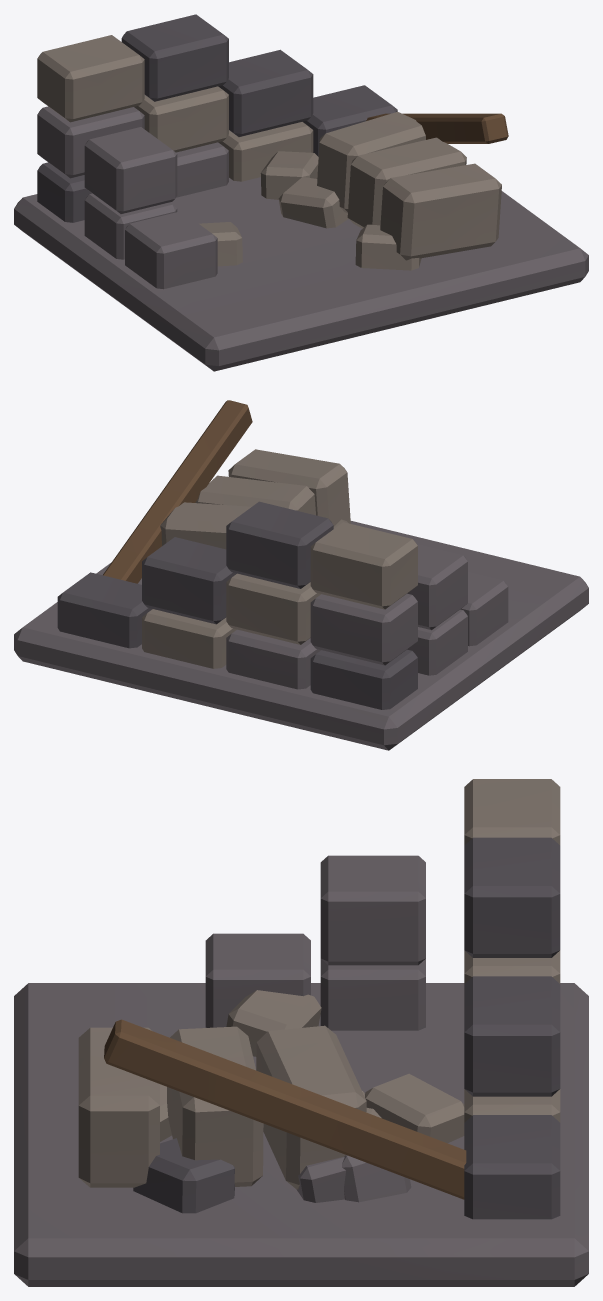
The model's file is ruin_quarry-CHuVIGxy.glb.
The picture shows the model from 3 angles, top to bottom: view 1: azimuth 30°, elevation 25°; view 2: azimuth 150°, elevation 25°; view 3: azimuth 270°, elevation 25°; orthographic projection. The views are drawn at different scales.
Parts seen in each view (by area): view 1: ruin_quarry_l1_body; view 2: ruin_quarry_l1_body; view 3: ruin_quarry_l1_body.
Part boxes in pixels (x1,y1,x2,y2): ruin_quarry_l1_body: [14, 14, 588, 371]; ruin_quarry_l1_body: [14, 400, 588, 750]; ruin_quarry_l1_body: [14, 779, 588, 1286].
Bounding box in the file's own units: 0.66 × 0.3005 × 0.6.
Materials: 1 (1 with a texture image).
